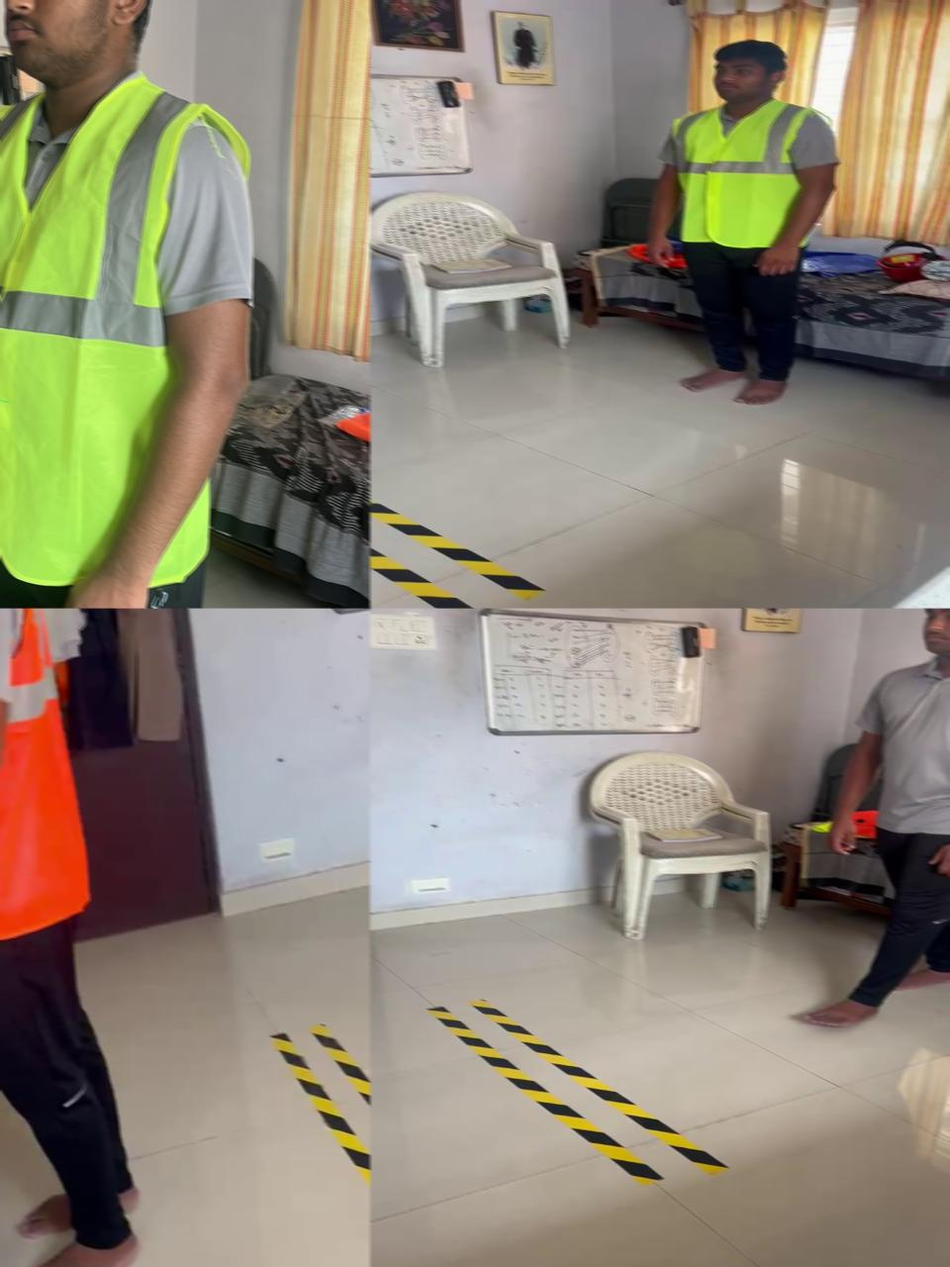BorderLine: (425, 998, 732, 1185), (273, 1020, 371, 1267), (370, 498, 551, 608)
No_Helmet: (0, 0, 161, 87), (710, 39, 788, 106), (921, 608, 950, 656)
No_Vest: (853, 656, 950, 834)
Person: (0, 0, 253, 608), (0, 608, 142, 1267), (644, 40, 845, 406), (803, 608, 950, 1026)
Vest: (0, 70, 249, 586), (0, 608, 91, 941), (663, 99, 832, 250)
